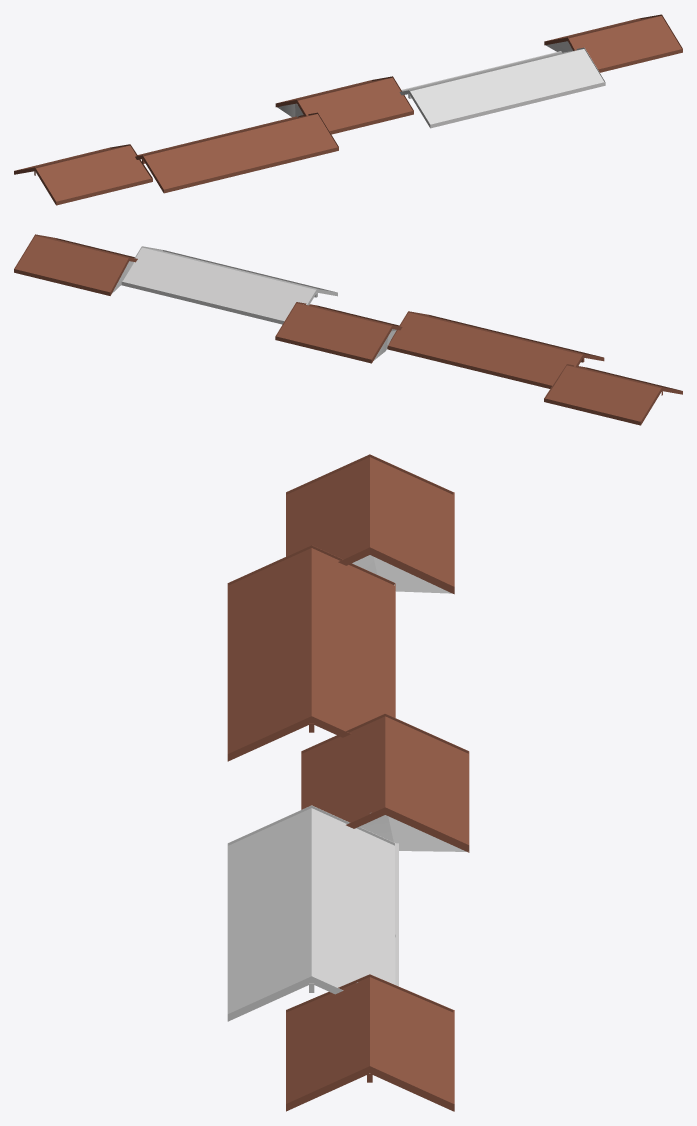
Rendered from roofixxer.fbx.
3 views of the same model, one above another, from view 1: azimuth 30°, elevation 25°; view 2: azimuth 150°, elevation 25°; view 3: azimuth 270°, elevation 25° (orthographic). The views are drawn at different scales.
Parts seen in each view (by area): view 1: roofCheck; view 2: roofCheck; view 3: roofCheck.
Boxes of the visible parts, x1,y1,x2,y2 form: roofCheck: [14, 14, 682, 205]; roofCheck: [14, 234, 682, 425]; roofCheck: [227, 454, 469, 1111].
Bounding box in the file's own units: 5206 × 186 × 869.
